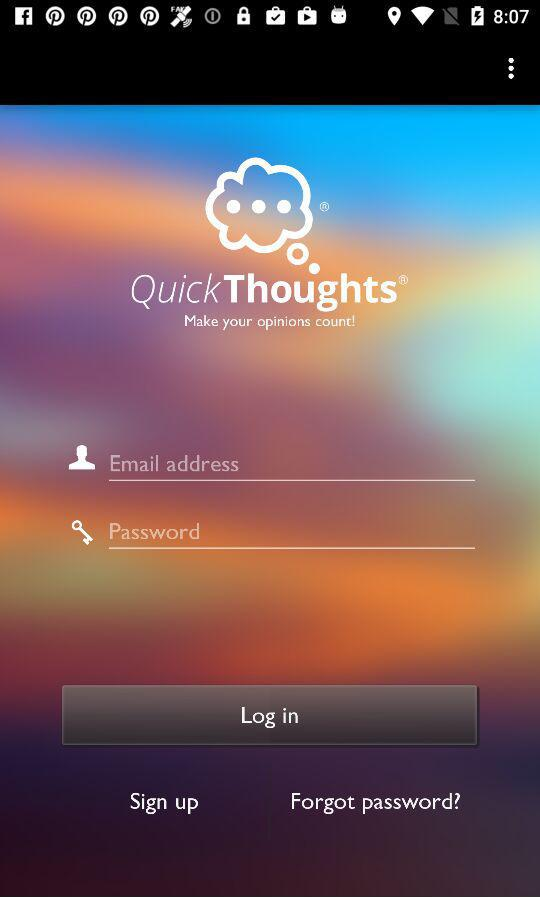EditText: (109, 522, 476, 550), (109, 454, 476, 482)
Icon: (69, 445, 96, 471), (507, 58, 515, 81)
Image: (131, 156, 408, 313), (72, 520, 95, 546)
Text: (292, 792, 462, 815), (184, 315, 356, 332), (111, 454, 240, 472), (111, 522, 201, 540), (130, 792, 200, 815)
TextButton: (62, 684, 480, 746)
UpperTaskBar: (1, 1, 540, 33)
